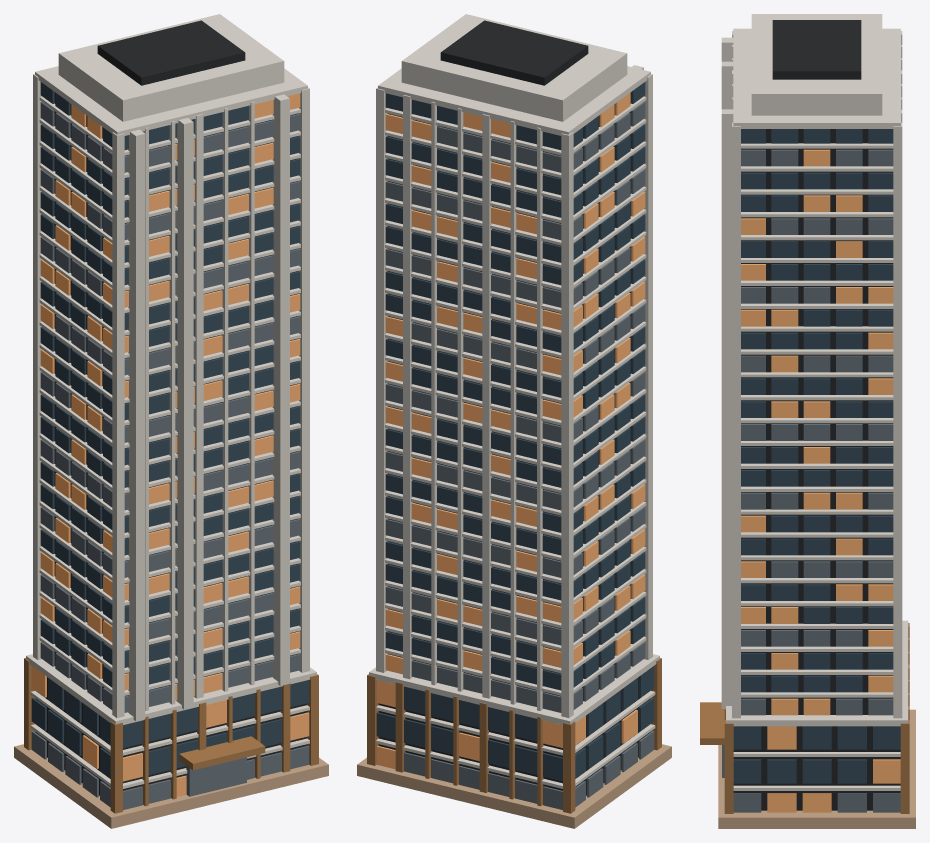
File: mumbai-white-house.glb
3 views of the same model, side by side, from view 1: azimuth 30°, elevation 25°; view 2: azimuth 150°, elevation 25°; view 3: azimuth 270°, elevation 25° (orthographic).
Visible parts, largest first — view 1: Facade, Entrances and podium, Roof detailing; view 2: Facade, Entrances and podium, Roof detailing; view 3: Facade, Entrances and podium, Roof detailing.
Boxes of the visible parts, x1=… form: Facade: x1=33, y1=66, x2=309, y2=720; Entrances and podium: x1=14, y1=654, x2=328, y2=828; Roof detailing: x1=58, y1=14, x2=284, y2=121; Facade: x1=376, y1=65, x2=652, y2=717; Entrances and podium: x1=357, y1=654, x2=671, y2=828; Roof detailing: x1=401, y1=14, x2=627, y2=121; Facade: x1=721, y1=28, x2=902, y2=718; Entrances and podium: x1=700, y1=620, x2=915, y2=828; Roof detailing: x1=751, y1=14, x2=882, y2=115.
Size of the model in its own units: 3.64 by 11.49 by 3.08.
